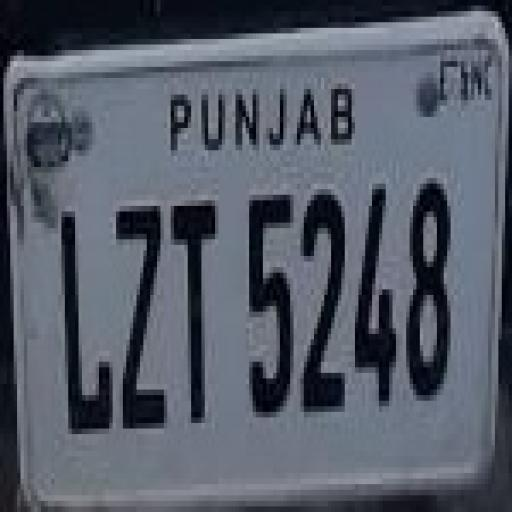2: (300, 179, 347, 418)
4: (350, 177, 396, 413)
5: (245, 186, 298, 417)
8: (404, 172, 459, 410)
L: (60, 210, 113, 442)
T: (173, 191, 223, 429)
Z: (114, 202, 170, 434)
